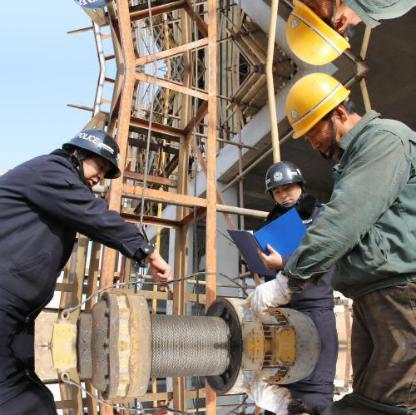helmet: (283, 72, 355, 140), (62, 129, 123, 185), (264, 160, 307, 193)
